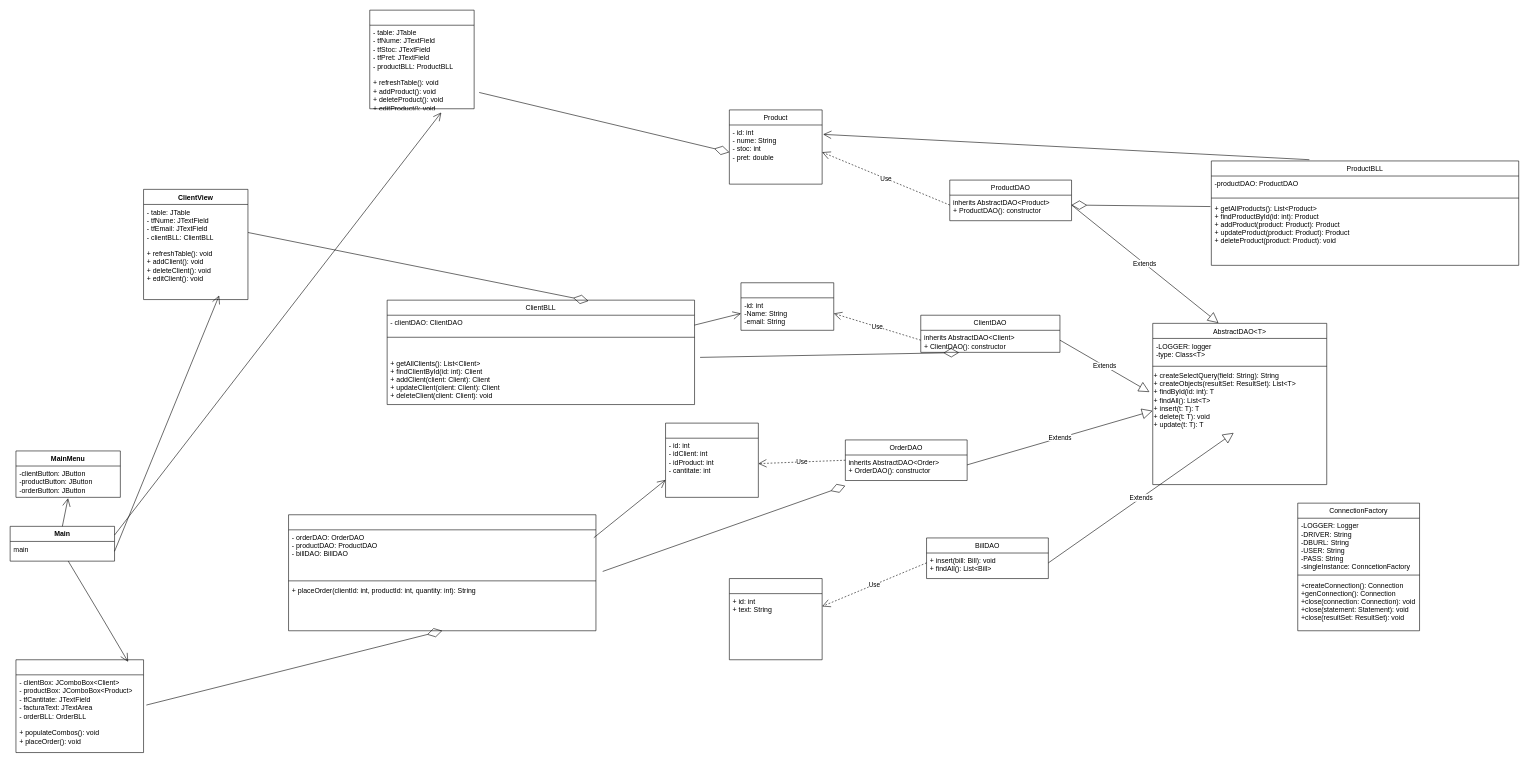
Image size: 1529x764. Some labels were removed from this diagram. Here are the shapes that lost their labels. From the top down, the box of each, then its label:
(369, 10, 474, 109): ProductView
(740, 282, 834, 330): Client
(665, 423, 758, 497): Order
(288, 514, 596, 631): OrderBLL
(729, 578, 822, 660): Bill (record)
(15, 659, 144, 753): OrderView
